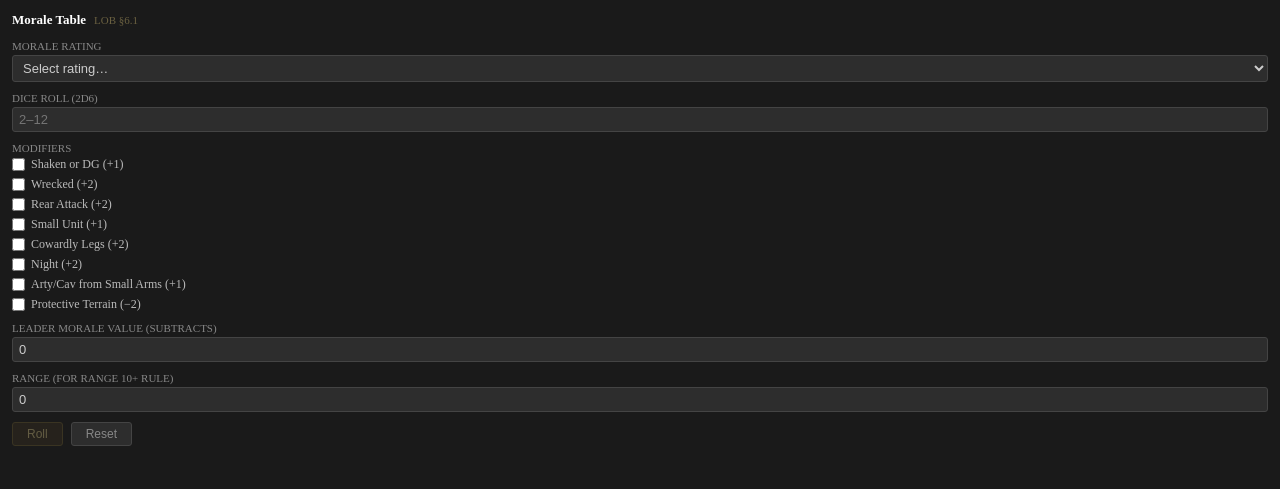
Test: MoralePanel › displays loading state while POST is in flight
Select "C" in the dropdown labelled "Morale Rating" at (640, 68), box top-left (12, 55), bottom-right (1268, 82)
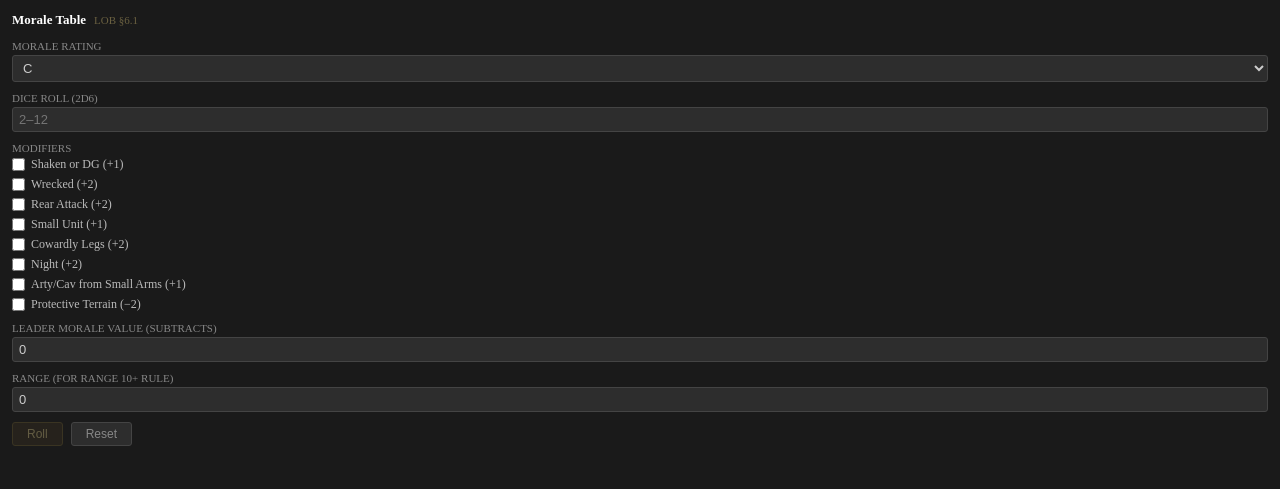
Type "8" into the number field with placeholder "2–12" at (640, 120), box top-left (12, 107), bottom-right (1268, 132)
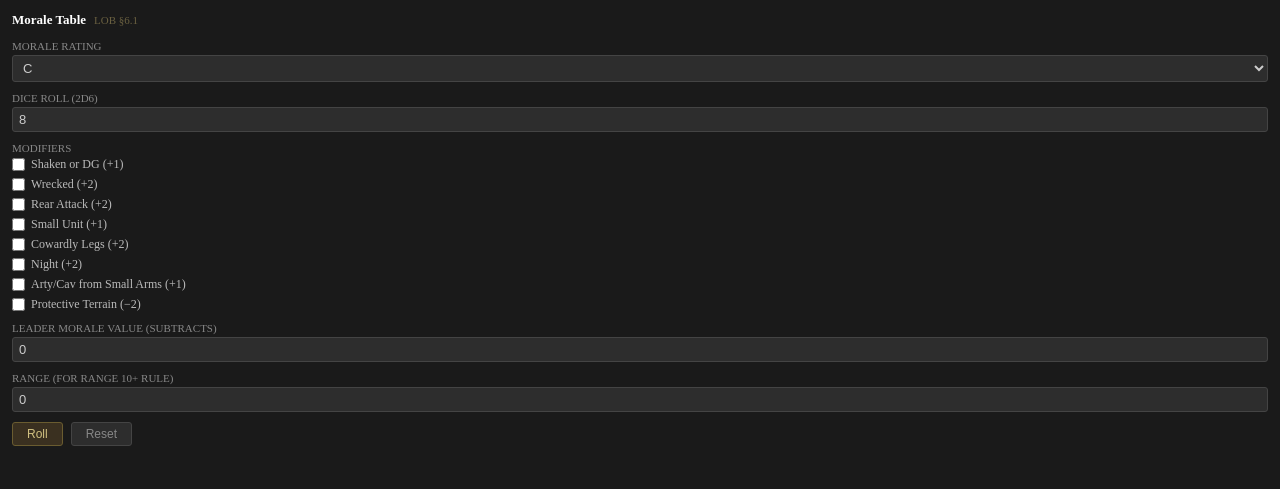
Click the button "Roll" at (37, 434), box top-left (12, 422), bottom-right (63, 446)
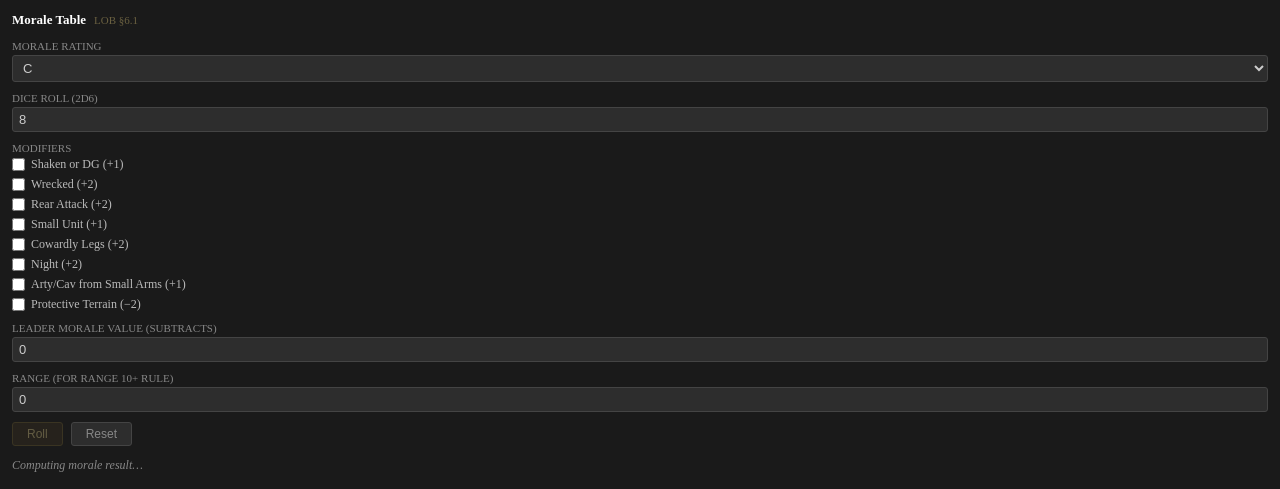
expect the text "Computing morale result" is shown: met, box top-left (12, 458), bottom-right (143, 472)
